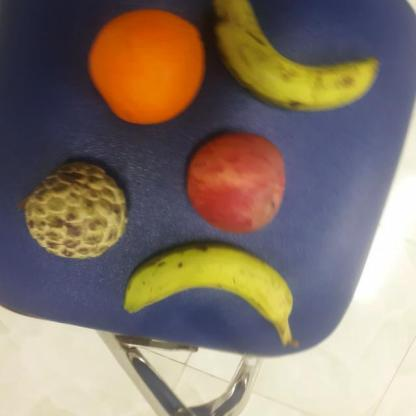annona: (20, 158, 130, 263)
apple: (186, 129, 292, 238)
banana: (209, 0, 384, 118), (122, 243, 297, 345)
orange: (86, 8, 209, 125)
